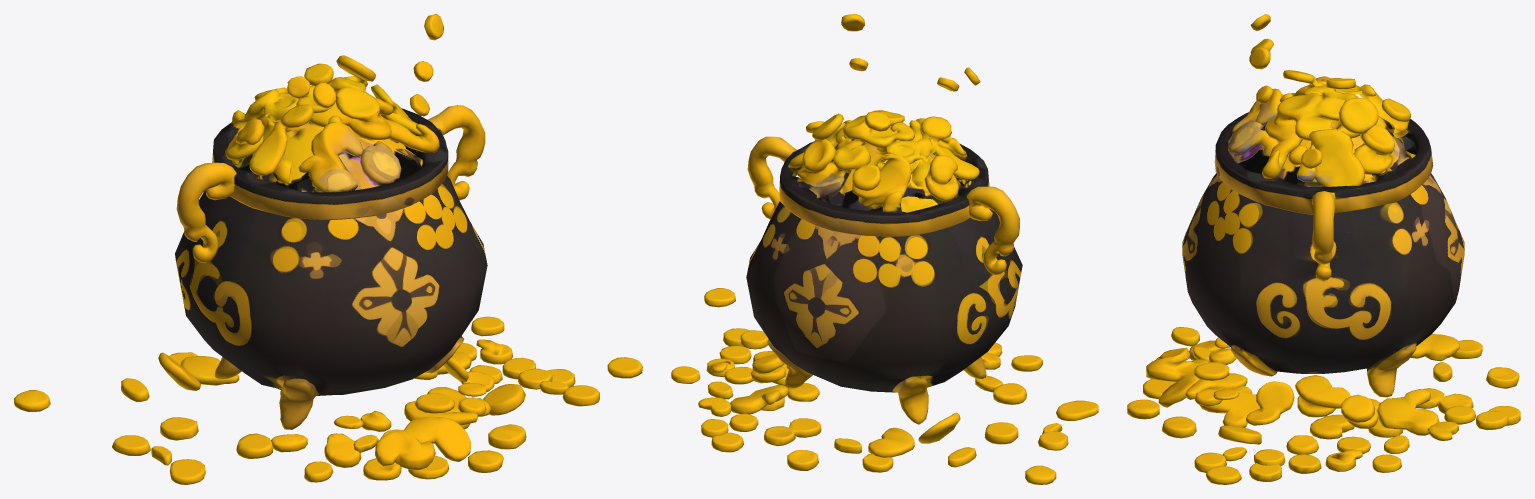
File: gilded_pot.glb
3 renders of one model, left to right at view 1: azimuth 30°, elevation 25°; view 2: azimuth 150°, elevation 25°; view 3: azimuth 270°, elevation 25°, orthographic. The views are drawn at different scales.
Size of the model in its own units: 1.9 by 1.43 by 1.37.
Materials: 1 (1 with a texture image).
